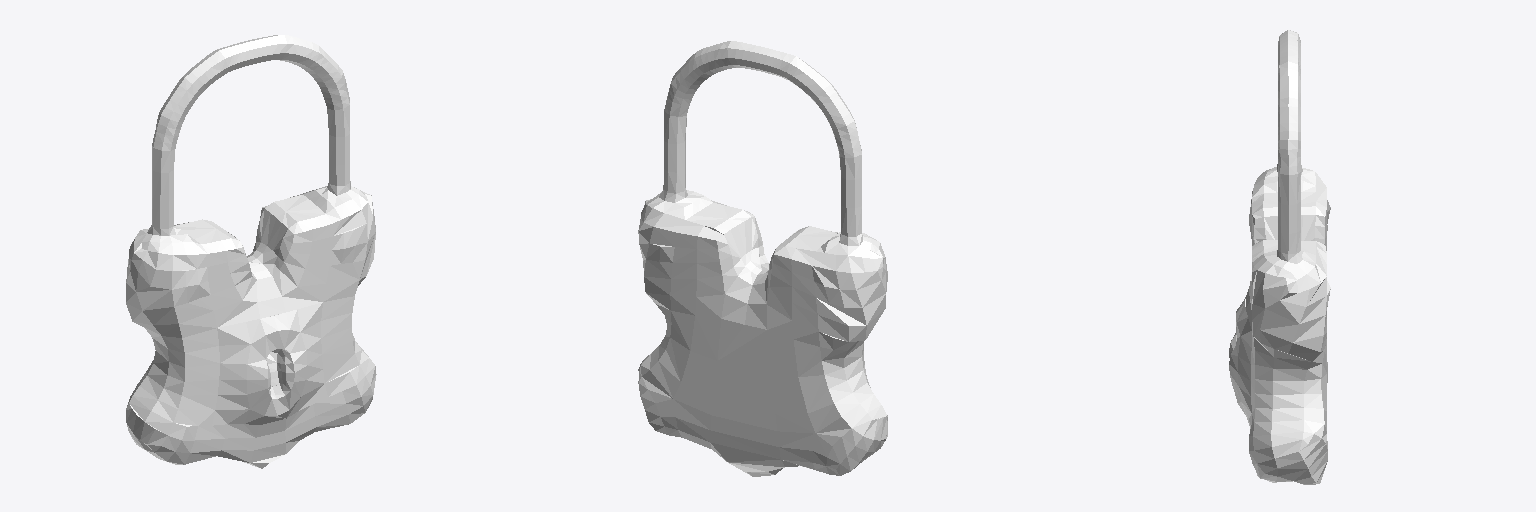
The model's file is padlock.obj.
3 renders of one model, left to right at view 1: azimuth 30°, elevation 25°; view 2: azimuth 150°, elevation 25°; view 3: azimuth 270°, elevation 25°, orthographic.
Visible parts, largest first — view 1: Volume4; view 2: Volume4; view 3: Volume4.
Part boxes in pixels (x1,y1,x2,y2): Volume4: (126, 35, 376, 468); Volume4: (638, 41, 887, 476); Volume4: (1229, 30, 1330, 484).
Size of the model in its own units: 48.62 by 82.2 by 17.92.